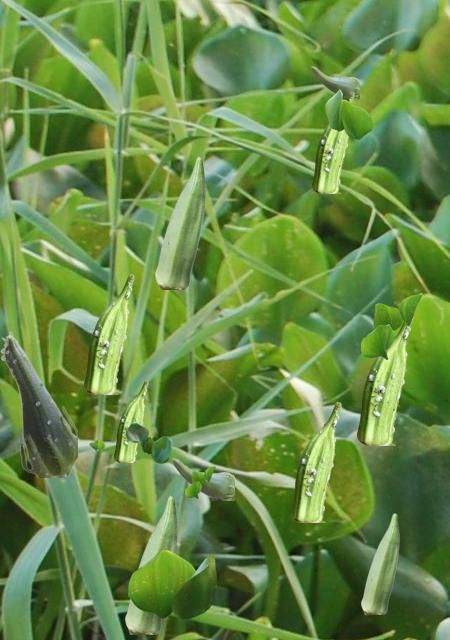okra: (0, 331, 76, 476), (125, 495, 176, 633), (357, 321, 412, 444), (155, 156, 204, 288), (291, 402, 340, 521), (84, 274, 133, 393), (312, 92, 353, 192), (361, 513, 398, 613), (114, 380, 147, 461), (172, 458, 233, 499), (311, 66, 358, 98)
